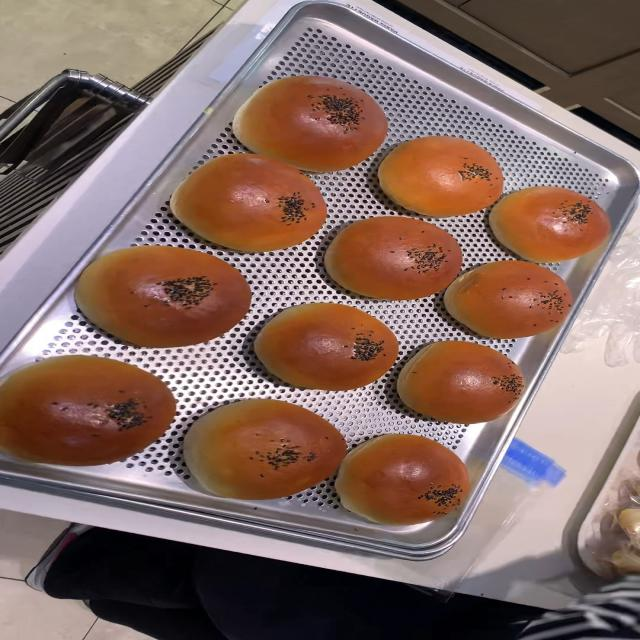bread: (0, 354, 175, 468), (73, 241, 254, 350), (170, 147, 332, 257), (182, 400, 341, 502), (232, 76, 384, 172), (254, 302, 402, 394), (391, 333, 531, 428), (334, 433, 470, 528), (324, 217, 462, 297), (379, 134, 508, 218), (442, 263, 576, 341), (489, 190, 611, 263)
